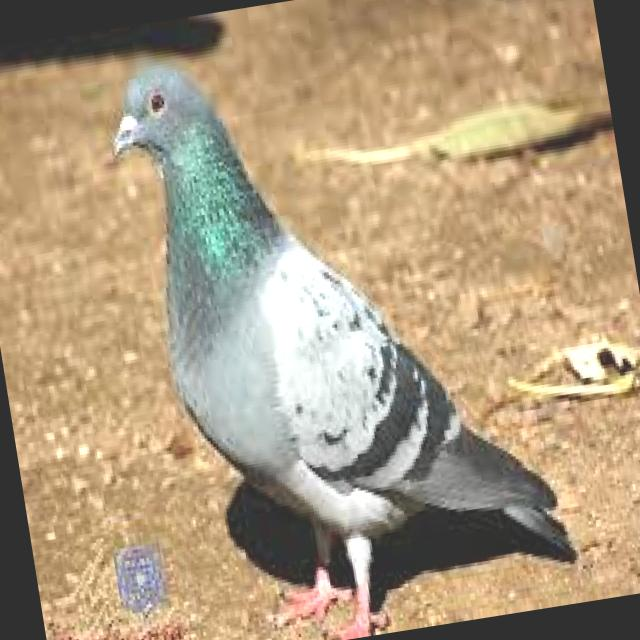bird: (92, 0, 600, 640)
